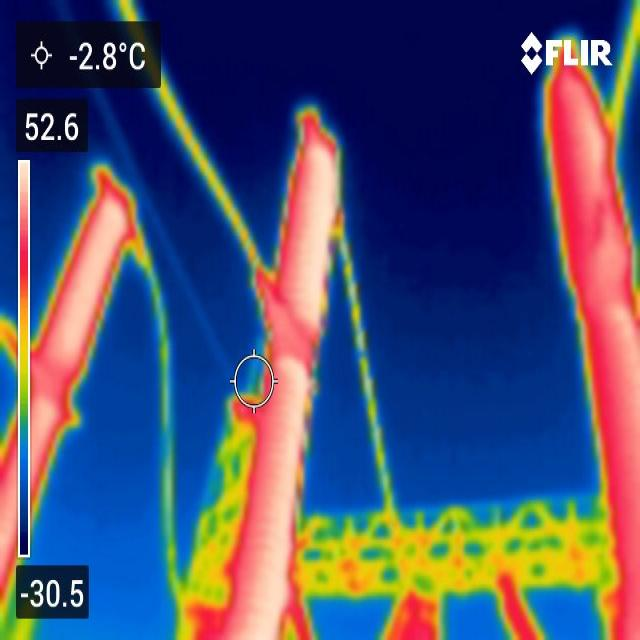Zona_Extrema: (201, 129, 338, 636), (555, 78, 639, 545), (32, 188, 129, 480)
